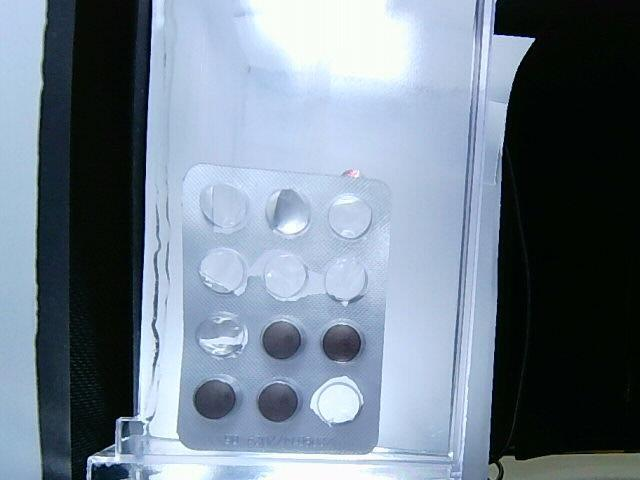Light Front: (174, 165, 393, 457)
No Pill Front: (309, 374, 371, 426), (194, 307, 251, 361), (259, 250, 319, 301), (199, 177, 251, 235), (267, 181, 314, 241), (324, 254, 374, 306), (200, 244, 245, 296), (329, 191, 373, 239)
Pill Front: (260, 316, 308, 363), (320, 320, 370, 365), (193, 377, 245, 419), (257, 376, 302, 421)
